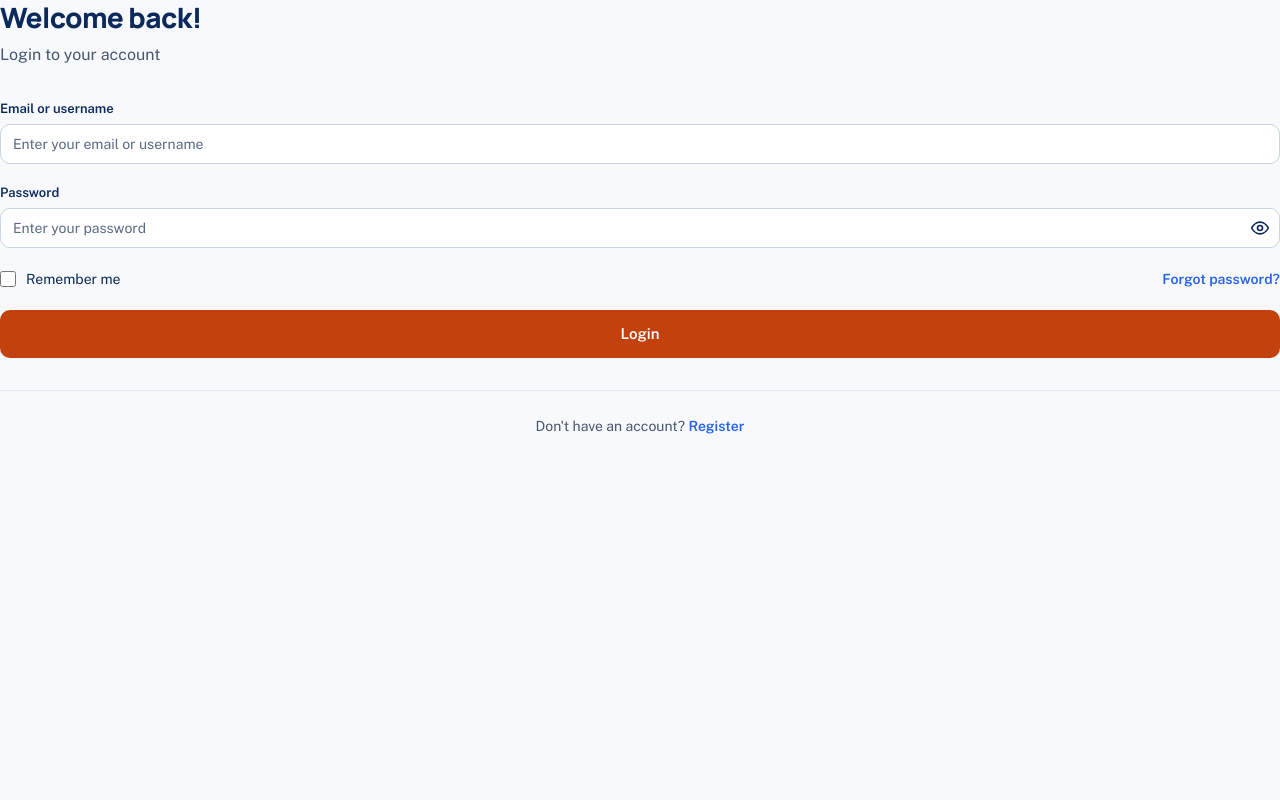
Test: session isolation across sign-out and sign-in › Student → sign out → Super Admin: the admin gets their own console and nothing of the student
Type "amina.student@fursadhub.test" into the field labelled "Email or username".
click(640, 144); type("amina.student@fursadhub.test")  # box [0,124,1279,164]
Type "Password123" into the password field labelled "Password".
click(640, 228); type("Password123")  # box [0,208,1279,248]
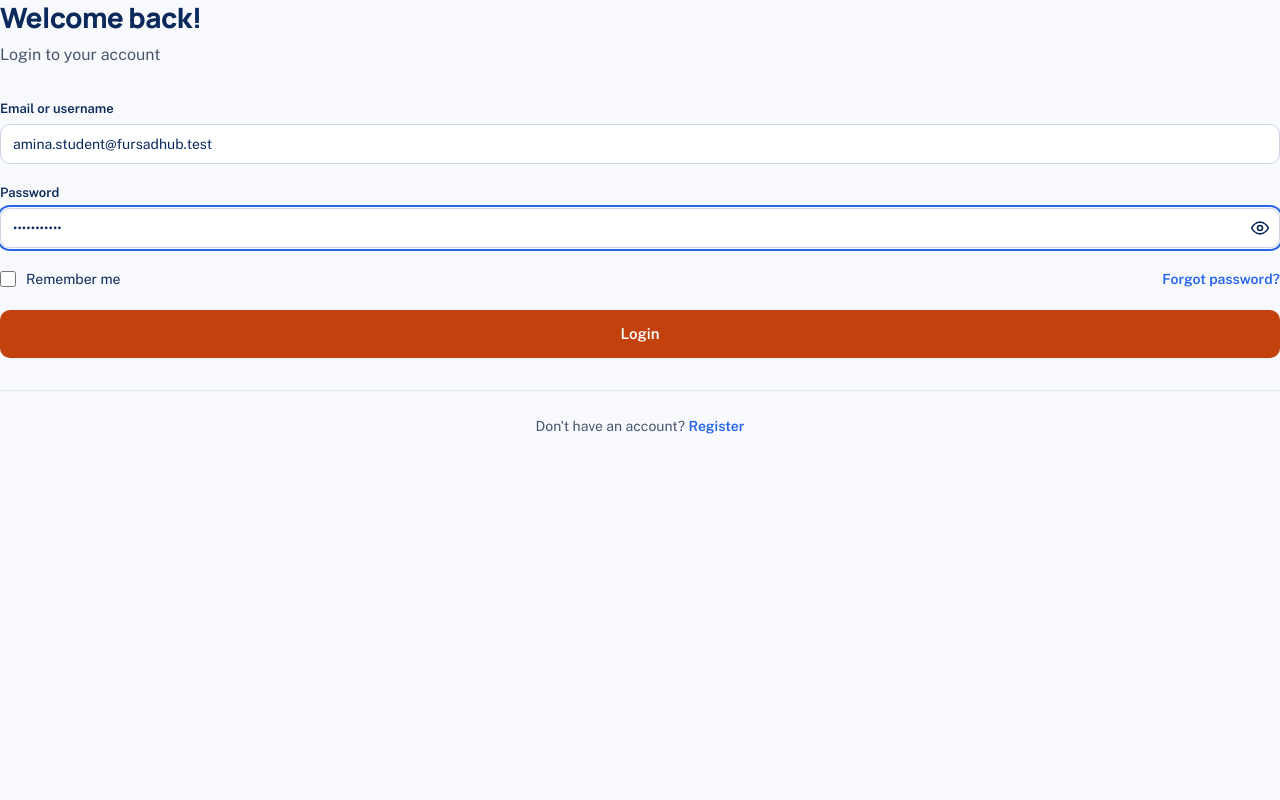
Click the button "Login".
click(640, 334)  # box [0,310,1279,358]
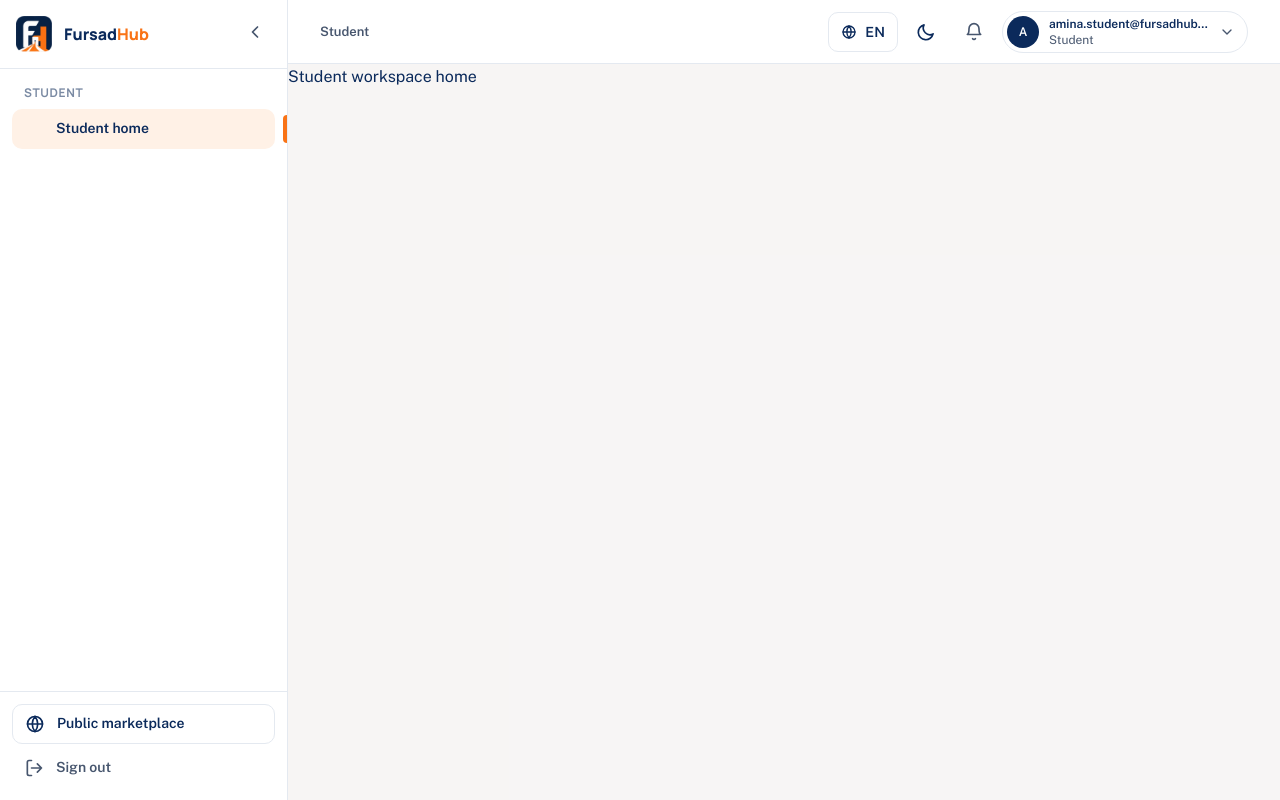
Expected: the text "amina.student@fursadhub.test" is shown, [1049,16,1209,32]
Click the button with aria-label "account".
click(1125, 32)  # box [1002,10,1248,52]
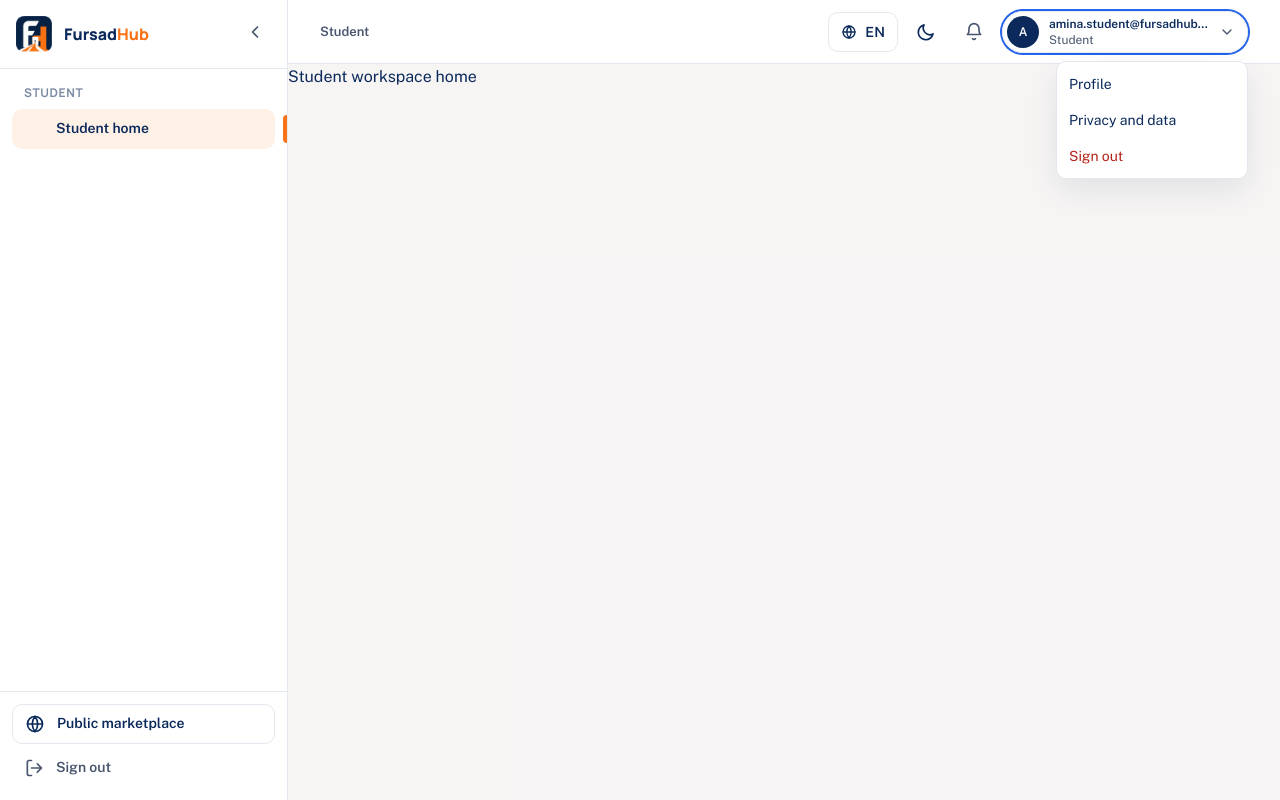
Click the menu item "Sign out".
click(1152, 156)  # box [1057,138,1247,174]
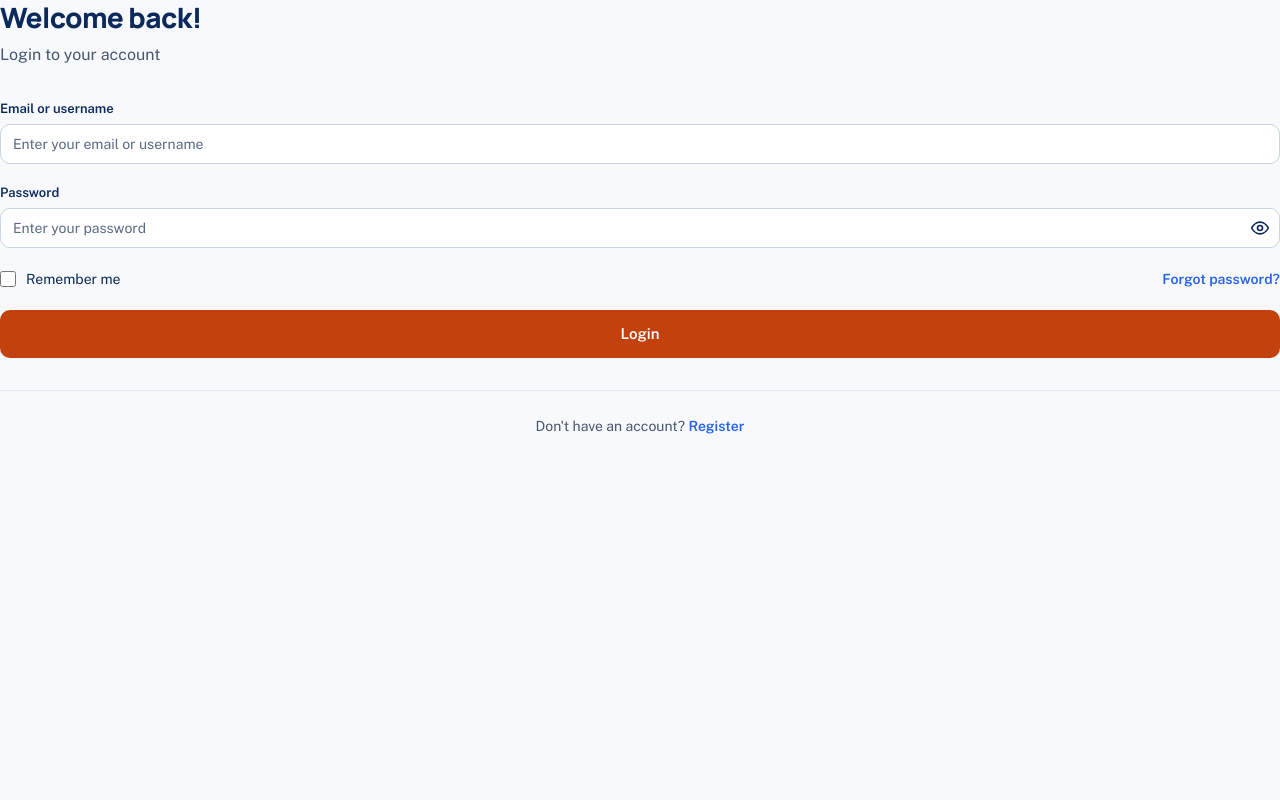
Expected: the button "Login" is shown, [0,310,1279,358]
Type "root.admin@fursadhub.test" into the field labelled "Email or username".
click(640, 144); type("root.admin@fursadhub.test")  # box [0,124,1279,164]
Type "Password123" into the password field labelled "Password".
click(640, 228); type("Password123")  # box [0,208,1279,248]
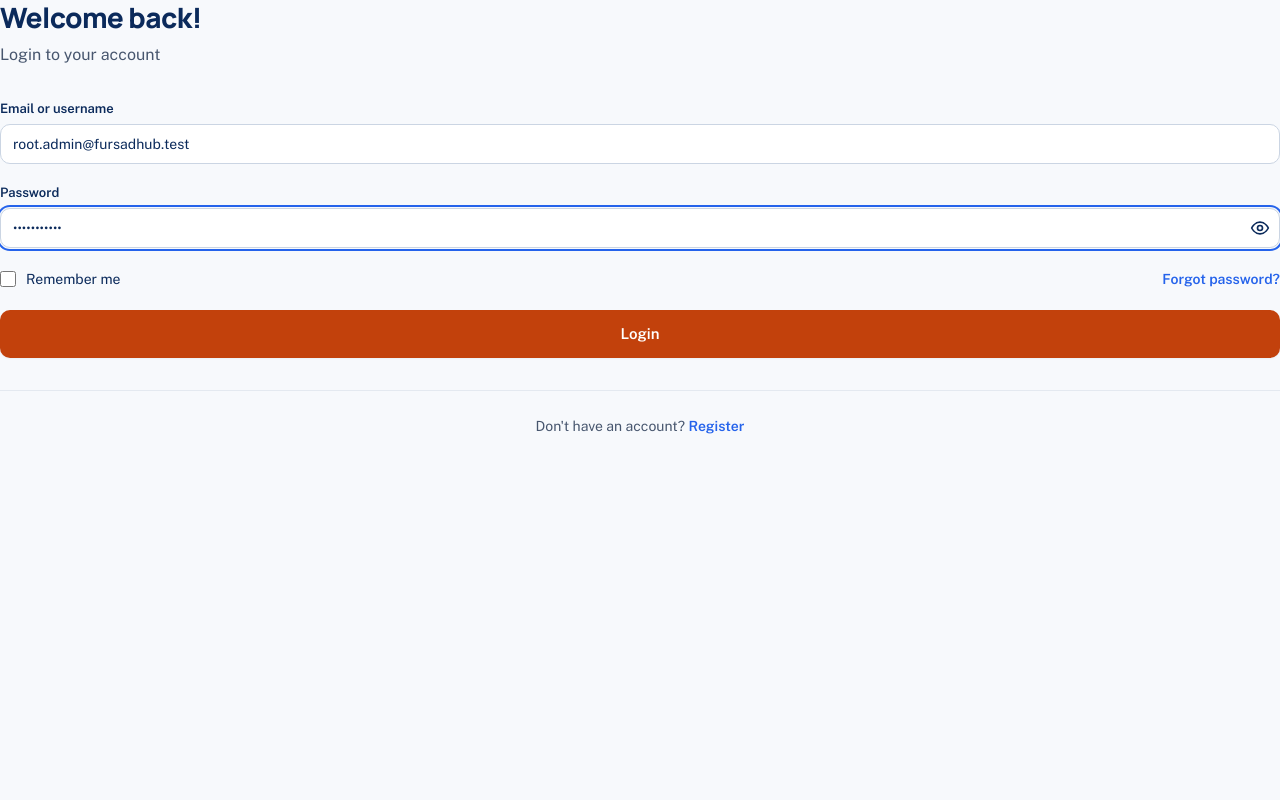
Click the button "Login".
click(640, 334)  # box [0,310,1279,358]
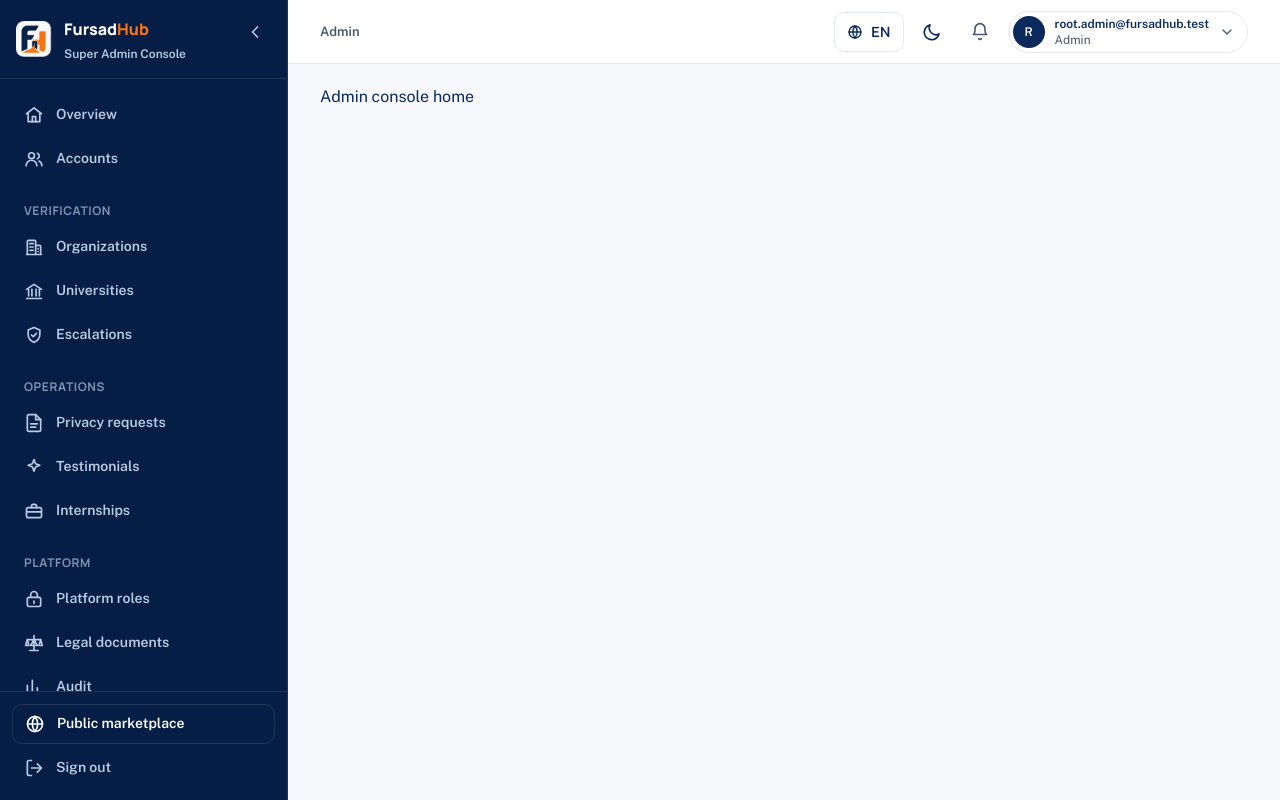
Expected: the text "Admin console home" is shown, [320,87,474,106]
Expected: the text "root.admin@fursadhub.test" is shown, [1055,16,1209,32]
